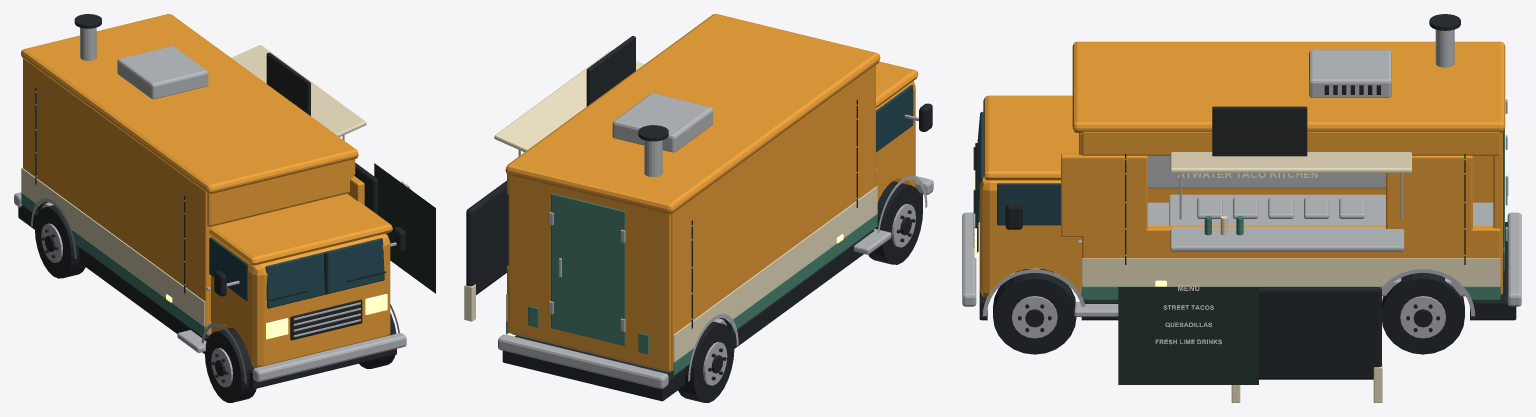
The model's file is taco-truck.glb.
The picture shows the model from 3 angles, left to right: view 1: azimuth 30°, elevation 25°; view 2: azimuth 150°, elevation 25°; view 3: azimuth 270°, elevation 25°; orthographic projection. The views are drawn at different scales.
Parts seen in each view (by area): view 1: ATWATER TACO KITCHEN Sauce Pitt cobalt enamel, Closed left wall, Rubber and charcoal, Brushed stainless, Blue cab glass, Yellow belt, Menu black, ATWATER TACO KITCHEN Warm yellow stripe, Burgundy skirt, LCD bezel, Warm service lights; view 2: ATWATER TACO KITCHEN Sauce Pitt cobalt enamel, Closed left wall, Rubber and charcoal, Brushed stainless, ATWATER TACO KITCHEN Burgundy enamel, Yellow belt, ATWATER TACO KITCHEN Warm yellow stripe, Burgundy skirt, LCD bezel, Blue cab glass; view 3: ATWATER TACO KITCHEN Sauce Pitt cobalt enamel, Brushed stainless, Rubber and charcoal, Menu black, Yellow belt.001, Service sill, ATWATER TACO KITCHEN Warm yellow stripe, LCD bezel, Blue cab glass, Closed left wall, Burgundy skirt.001, Vendor lettering / cream (+1 smaller).
Boxes of the visible parts, x1=… form: ATWATER TACO KITCHEN Sauce Pitt cobalt enamel: x1=21, y1=14, x2=392, y2=368; Closed left wall: x1=23, y1=58, x2=210, y2=334; Rubber and charcoal: x1=18, y1=14, x2=405, y2=402; Brushed stainless: x1=14, y1=27, x2=406, y2=387; Blue cab glass: x1=209, y1=233, x2=388, y2=308; Yellow belt: x1=21, y1=168, x2=205, y2=326; Menu black: x1=374, y1=163, x2=435, y2=293; ATWATER TACO KITCHEN Warm yellow stripe: x1=231, y1=45, x2=366, y2=136; Burgundy skirt: x1=21, y1=192, x2=205, y2=337; LCD bezel: x1=266, y1=52, x2=310, y2=115; Warm service lights: x1=166, y1=294, x2=387, y2=339; ATWATER TACO KITCHEN Sauce Pitt cobalt enamel: x1=505, y1=14, x2=918, y2=371; Closed left wall: x1=671, y1=65, x2=875, y2=371; Rubber and charcoal: x1=466, y1=99, x2=932, y2=402; Brushed stainless: x1=498, y1=93, x2=933, y2=388; ATWATER TACO KITCHEN Burgundy enamel: x1=528, y1=193, x2=648, y2=354; Yellow belt: x1=673, y1=186, x2=877, y2=362; ATWATER TACO KITCHEN Warm yellow stripe: x1=464, y1=50, x2=644, y2=321; Burgundy skirt: x1=673, y1=214, x2=877, y2=374; LCD bezel: x1=586, y1=36, x2=635, y2=106; Blue cab glass: x1=876, y1=85, x2=913, y2=152; ATWATER TACO KITCHEN Sauce Pitt cobalt enamel: x1=979, y1=41, x2=1505, y2=297; Brushed stainless: x1=962, y1=29, x2=1521, y2=338; Rubber and charcoal: x1=973, y1=14, x2=1516, y2=379; Menu black: x1=1118, y1=287, x2=1258, y2=384; Yellow belt.001: x1=1082, y1=258, x2=1500, y2=286; Service sill: x1=1082, y1=226, x2=1500, y2=258; ATWATER TACO KITCHEN Warm yellow stripe: x1=1170, y1=152, x2=1411, y2=402; LCD bezel: x1=1212, y1=106, x2=1307, y2=156; Blue cab glass: x1=976, y1=112, x2=1060, y2=225; Closed left wall: x1=1147, y1=155, x2=1493, y2=202; Burgundy skirt.001: x1=1082, y1=286, x2=1500, y2=299; Vendor lettering / cream: x1=1155, y1=173, x2=1317, y2=344.
Size of the model in its own units: 4.43 by 3.81 by 7.09.
